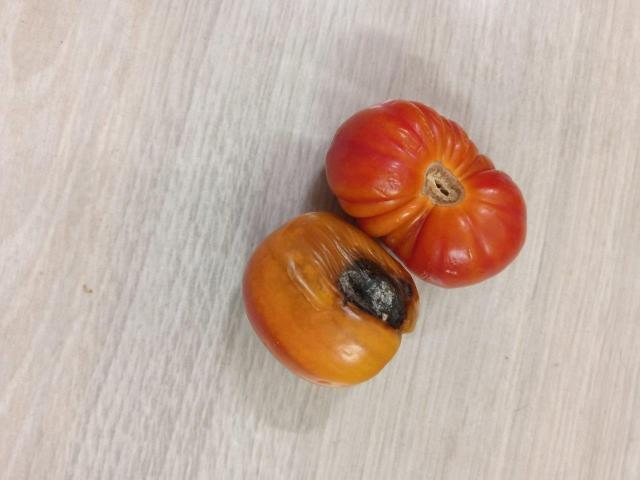defect: (240, 209, 423, 390)
